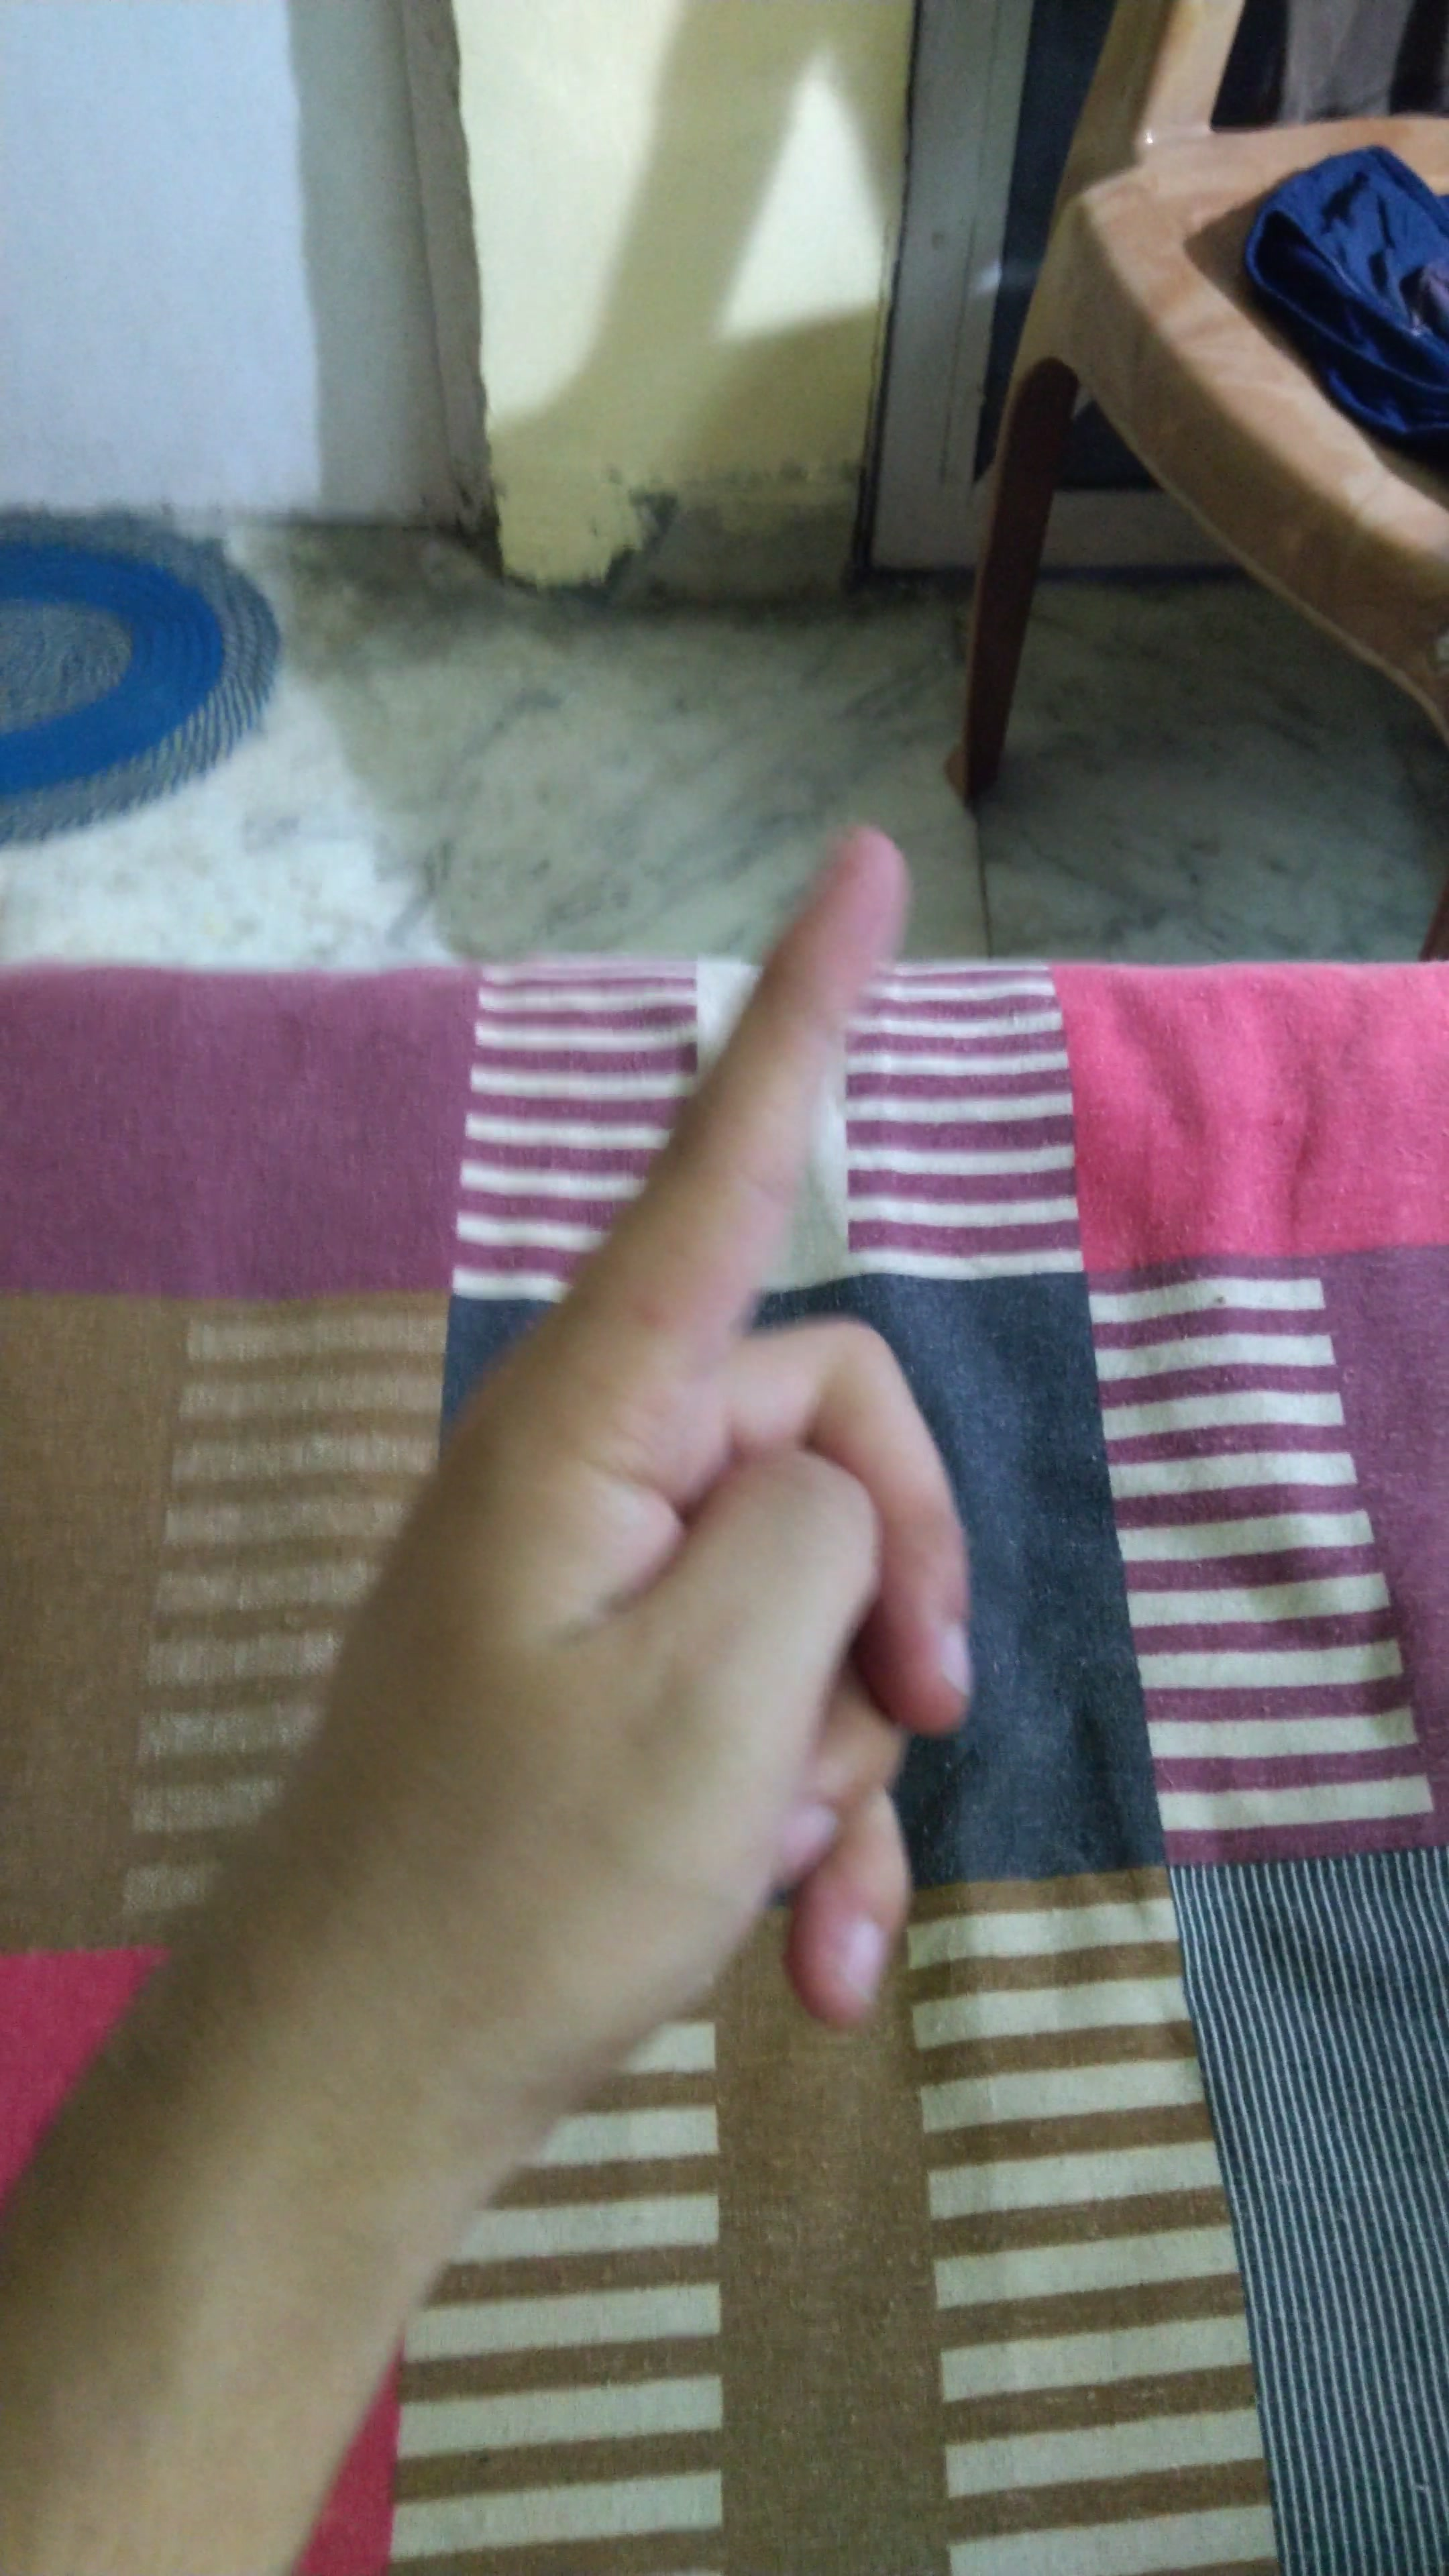hand: (274, 798, 1067, 2127)
